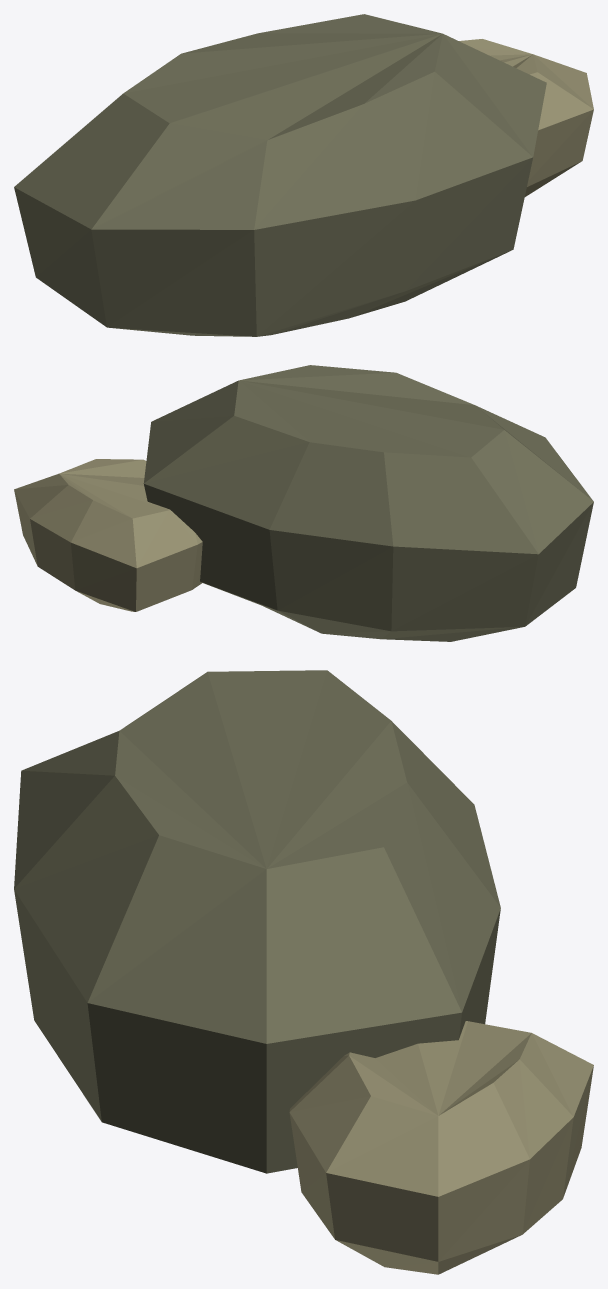
The model's file is bed_rocks_2.obj.
3 views of the same model, one above another, from view 1: azimuth 30°, elevation 25°; view 2: azimuth 150°, elevation 25°; view 3: azimuth 270°, elevation 25° (orthographic). The views are drawn at different scales.
Visible parts, largest first — view 1: bed_rocks_2; view 2: bed_rocks_2; view 3: bed_rocks_2.
Part boxes in pixels (x1,y1,x2,y2): bed_rocks_2: (14,14,593,336); bed_rocks_2: (14,365,593,641); bed_rocks_2: (14,670,593,1274).
Bounding box in the file's own units: 4.21 × 1.61 × 2.53.
